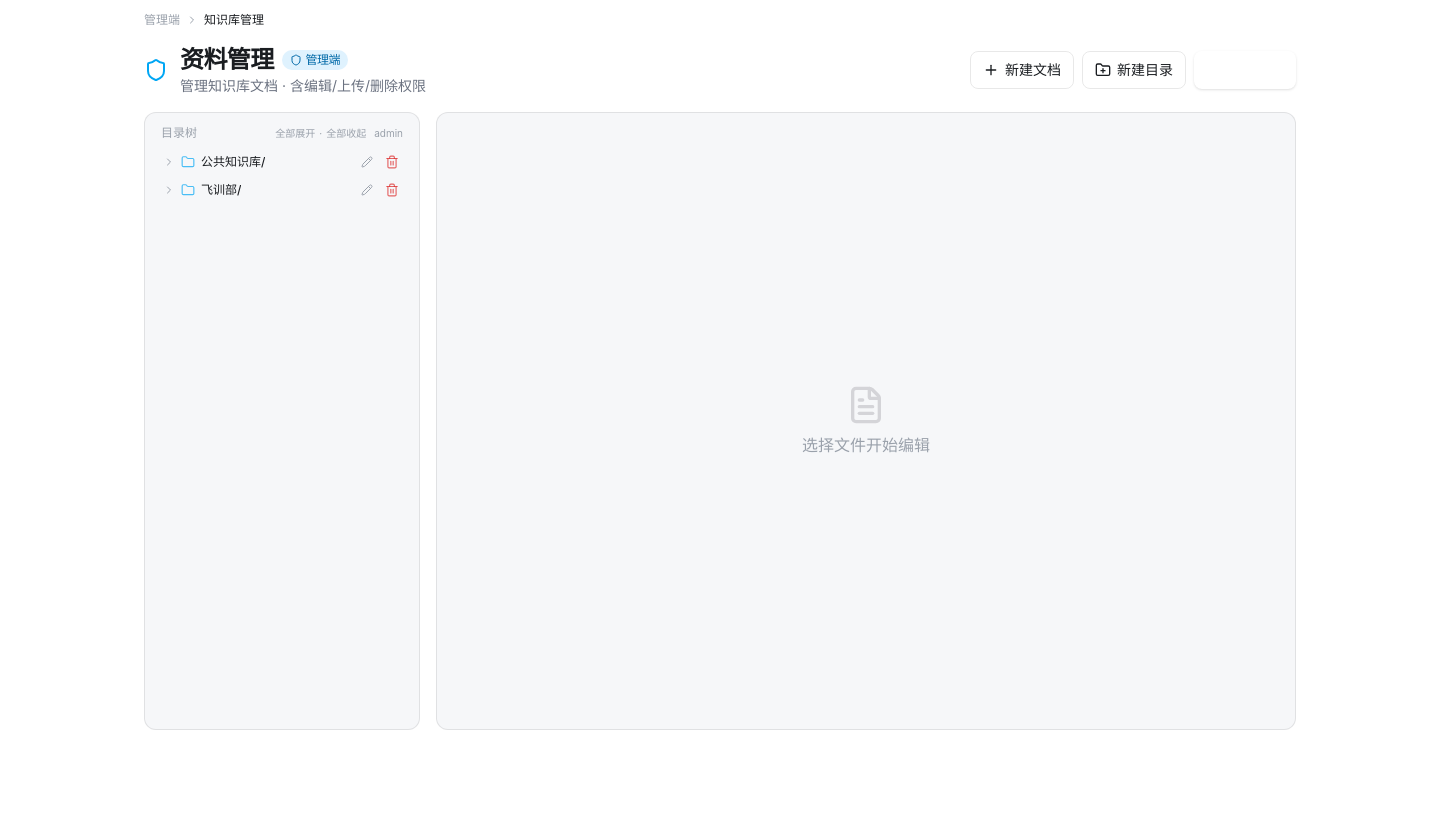
Test case: 知识库管理页 · 目录树折叠 › 逐级展开后显示子项，再点收起
Expected: the text "公共知识库/" is shown, [201,154,266,170]
Click the button named "展开 公共知识库" at (169, 162), box [161,154,177,170]
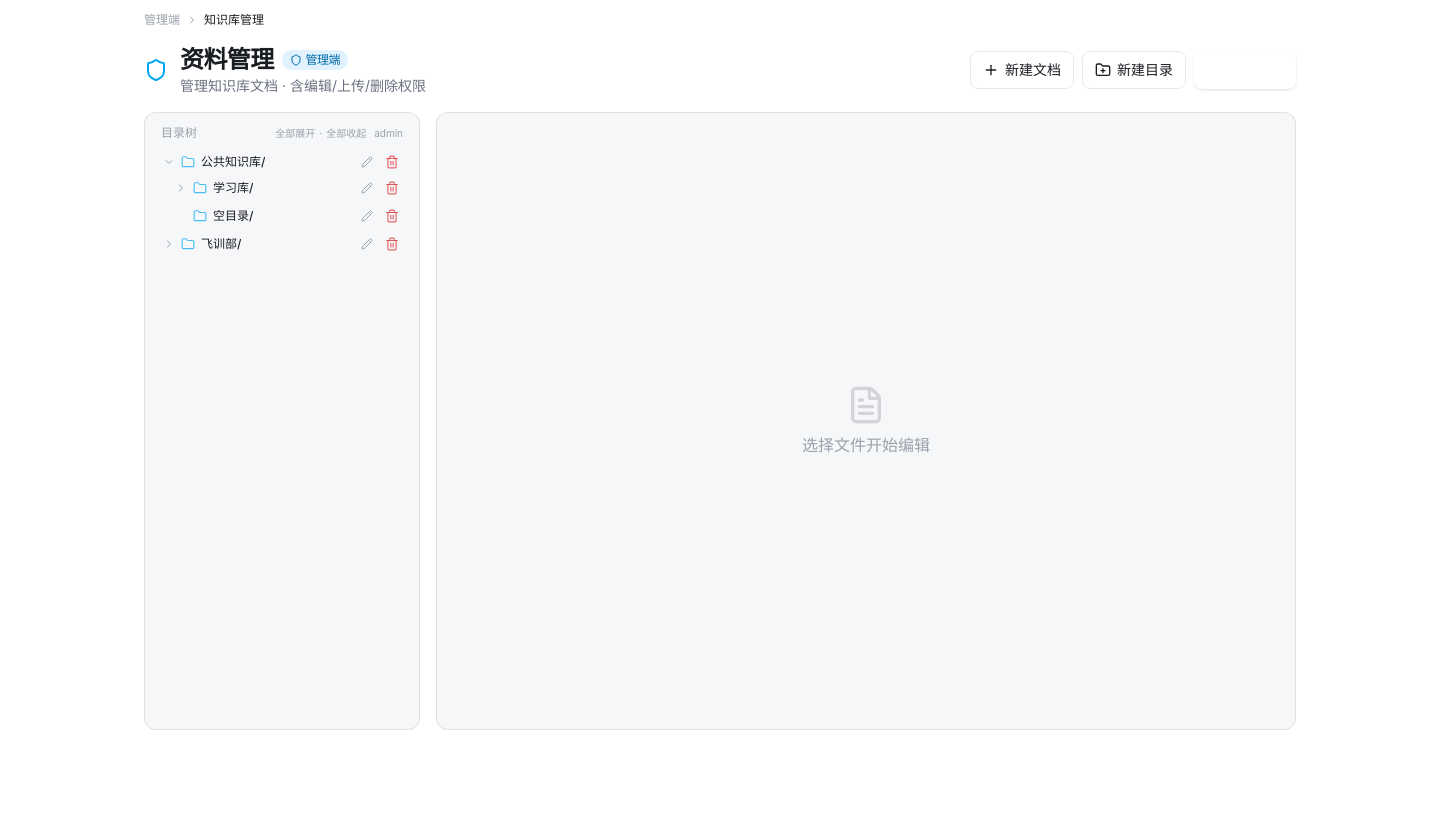
Click the button named "展开 学习库" at (181, 188), box [173,180,189,196]
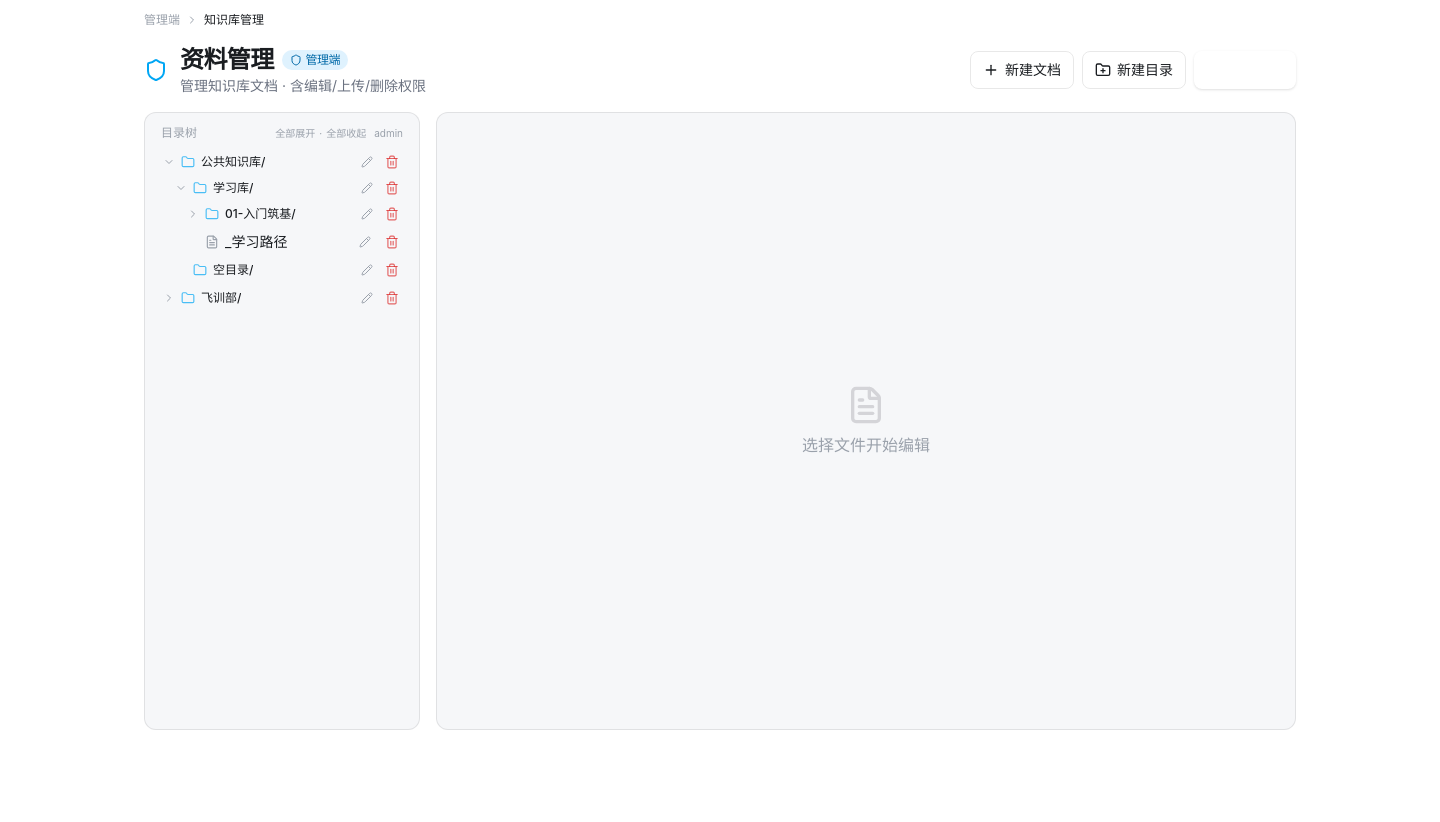
Now the text "_学习路径" is shown, box [225,232,287,252]
Now the text "01-入门筑基/" is shown, box [225,206,296,222]
Click the button named "折叠 学习库" at (181, 188), box [173,180,189,196]
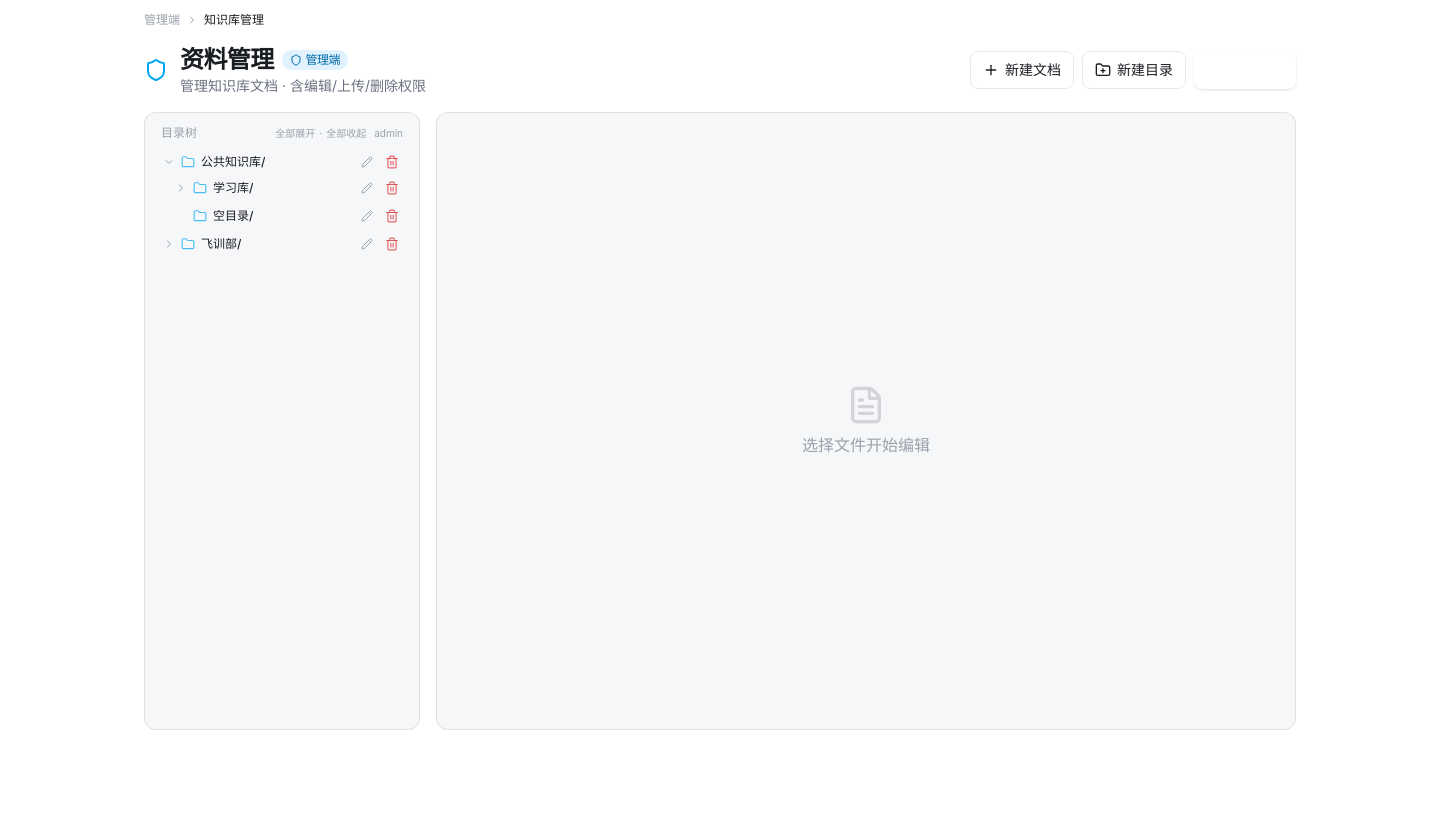
Now the button "_学习路径" is gone
